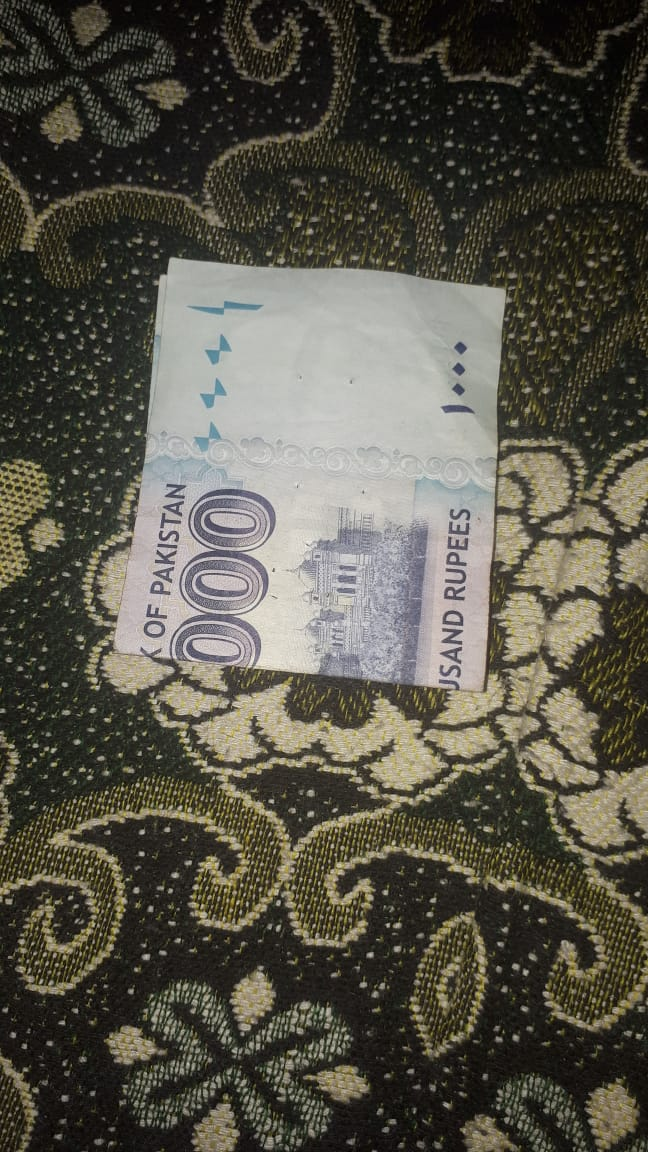1000 rupee: (116, 248, 513, 726)
